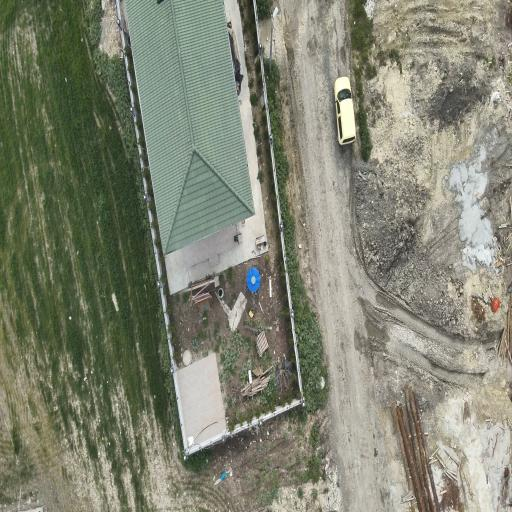car: (335, 77, 355, 144)
